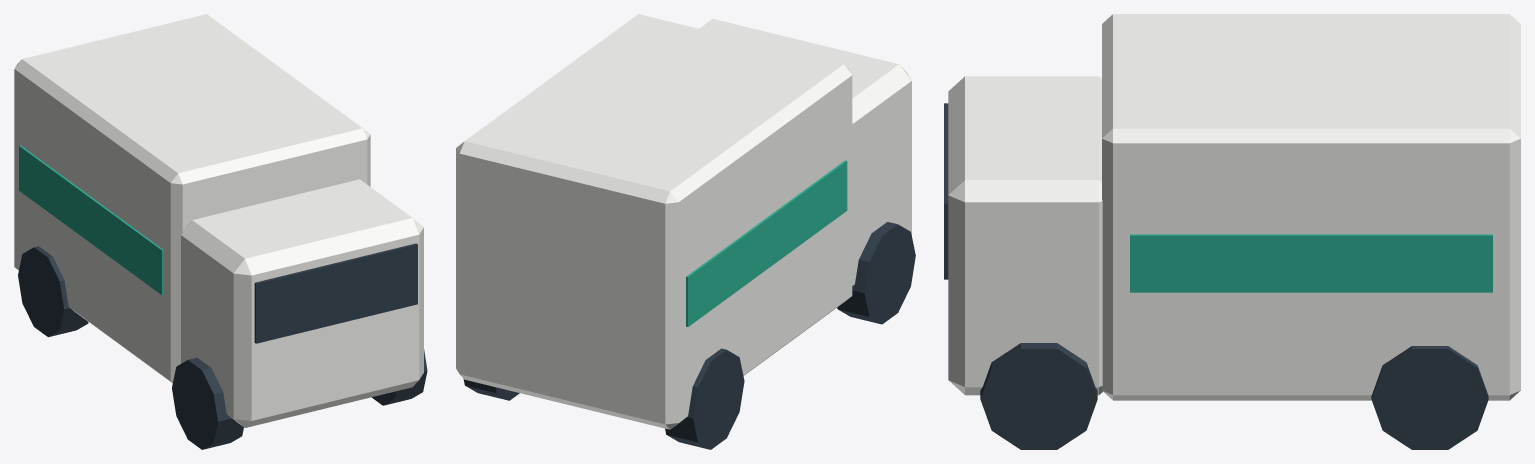
File: van.fbx
3 views of the same model, side by side, from view 1: azimuth 30°, elevation 25°; view 2: azimuth 150°, elevation 25°; view 3: azimuth 270°, elevation 25° (orthographic). The views are drawn at different scales.
Visible parts, largest first — view 1: van; view 2: van; view 3: van.
Boxes of the visible parts, x1,y1,x2,y2 form: van: (14, 14, 427, 449); van: (456, 14, 915, 449); van: (944, 14, 1520, 449).
Bounding box in the file's own units: 2.2 × 2.48 × 4.13.
